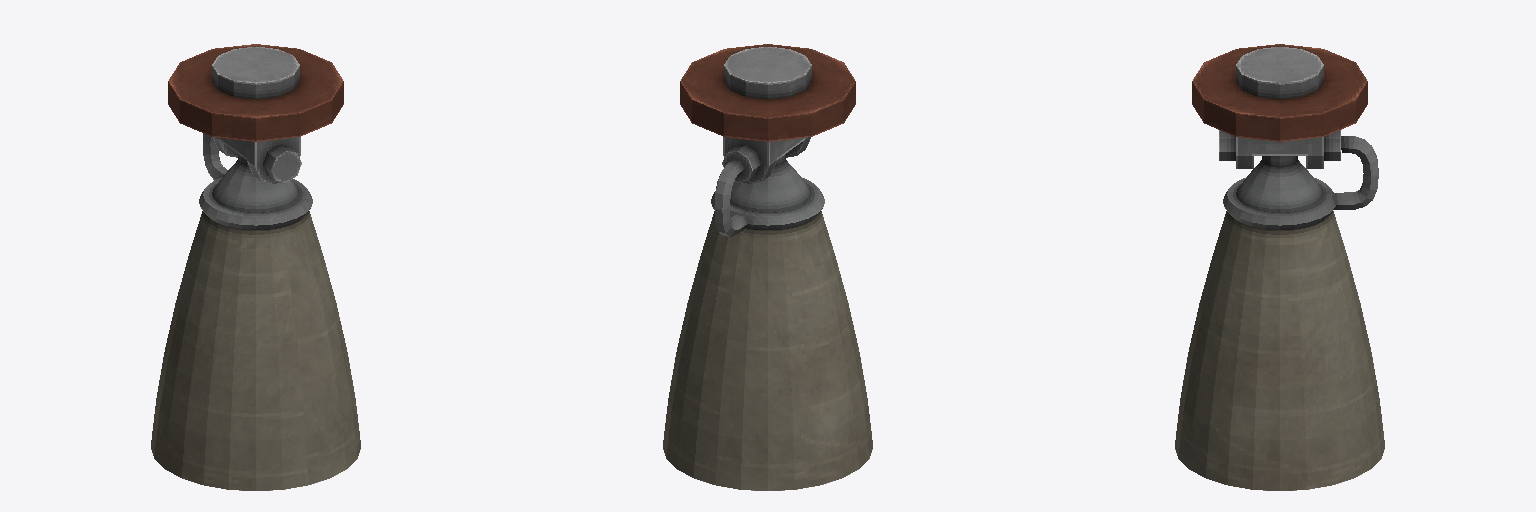
3 views of the same model, side by side, from view 1: azimuth 30°, elevation 25°; view 2: azimuth 150°, elevation 25°; view 3: azimuth 270°, elevation 25° (orthographic).
Visible parts, largest first — view 1: 1, base1; view 2: 1, base1; view 3: 1, base1.
Boxes of the visible parts, x1,y1,x2,y2 form: 1: [151, 133, 360, 490]; base1: [168, 44, 343, 183]; 1: [663, 154, 872, 490]; base1: [680, 44, 855, 183]; 1: [1175, 136, 1384, 490]; base1: [1192, 44, 1367, 168].
Bounding box in the file's own units: 0.3 × 0.6 × 0.3.
Materials: 2 (1 with a texture image).